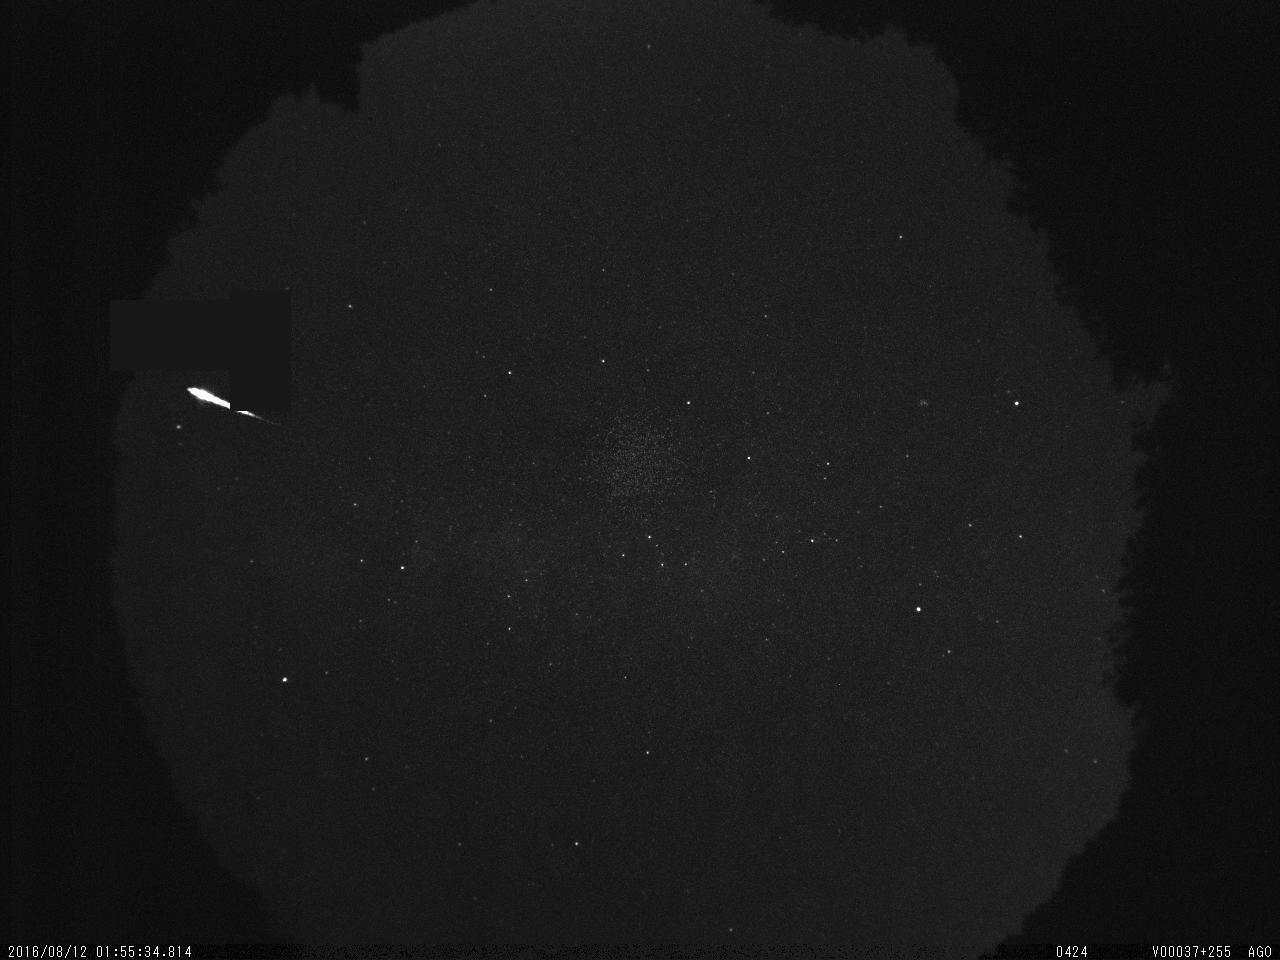meteor: (177, 375, 299, 441)
